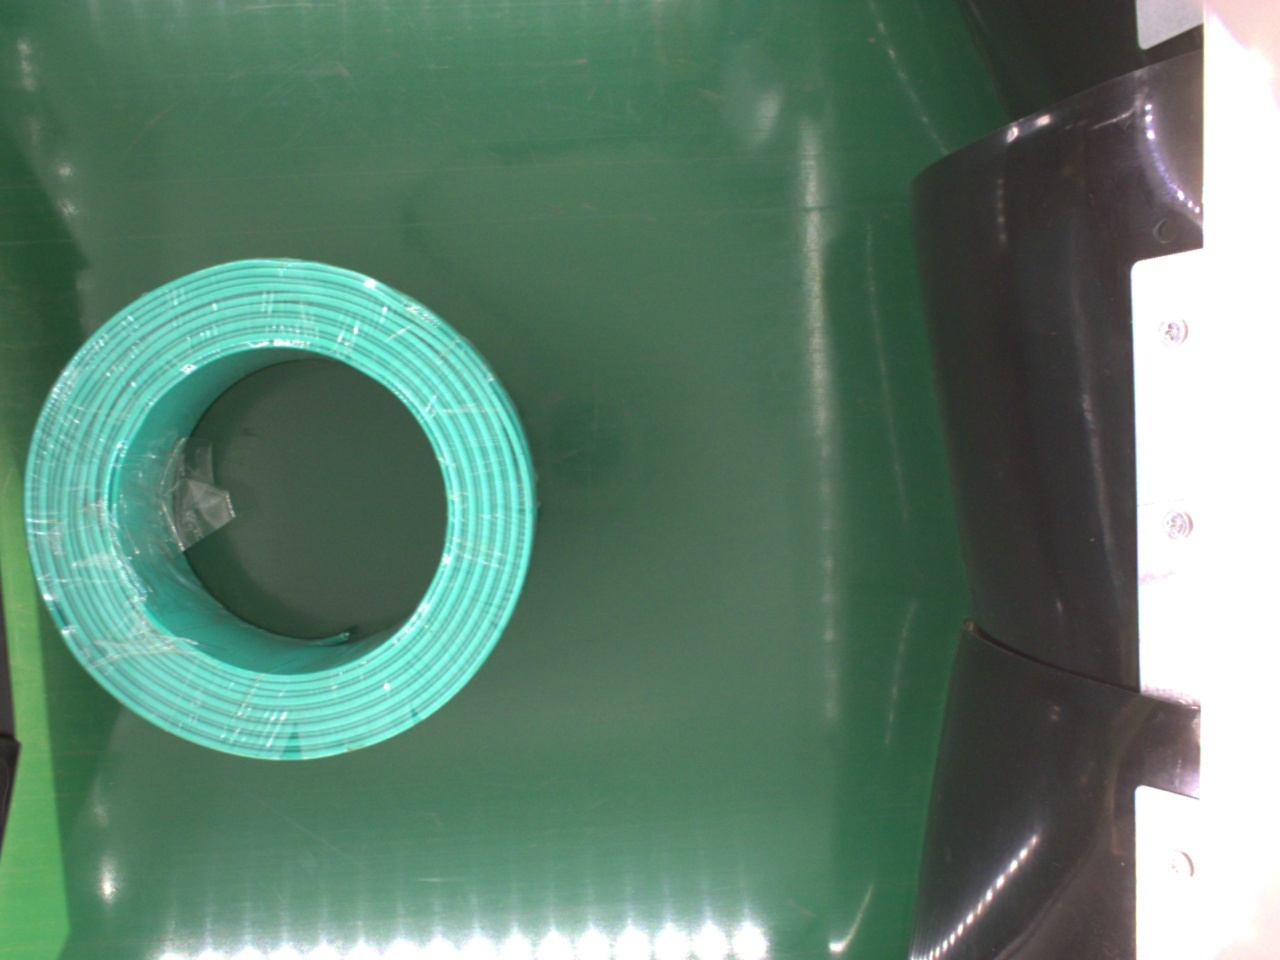green: (19, 254, 540, 765)
